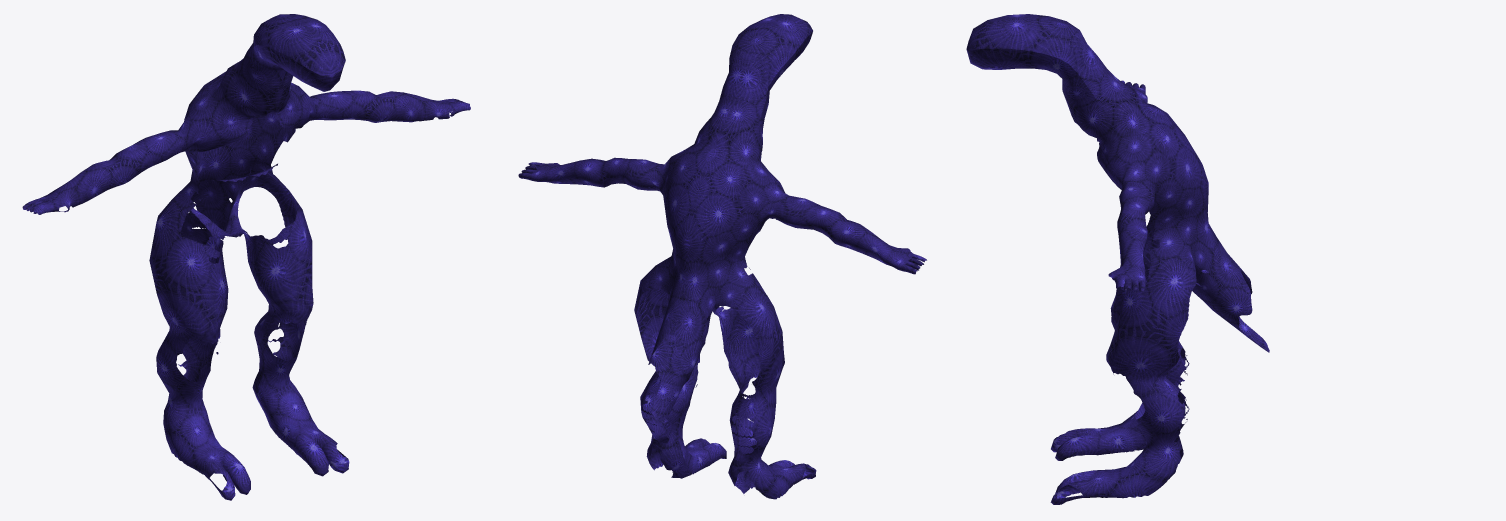
The model's file is nightmare_02.obj.
3 renders of one model, left to right at view 1: azimuth 30°, elevation 25°; view 2: azimuth 150°, elevation 25°; view 3: azimuth 270°, elevation 25°, orthographic. The views are drawn at different scales.
Visible parts, largest first — view 1: Cube.004; view 2: Cube.004; view 3: Cube.004.
Boxes of the visible parts, box(x1,y1,x2,y2) form: Cube.004: box(22, 14, 470, 500); Cube.004: box(518, 14, 926, 499); Cube.004: box(966, 14, 1269, 504).
Bounding box in the file's own units: 266 × 265 × 272.
